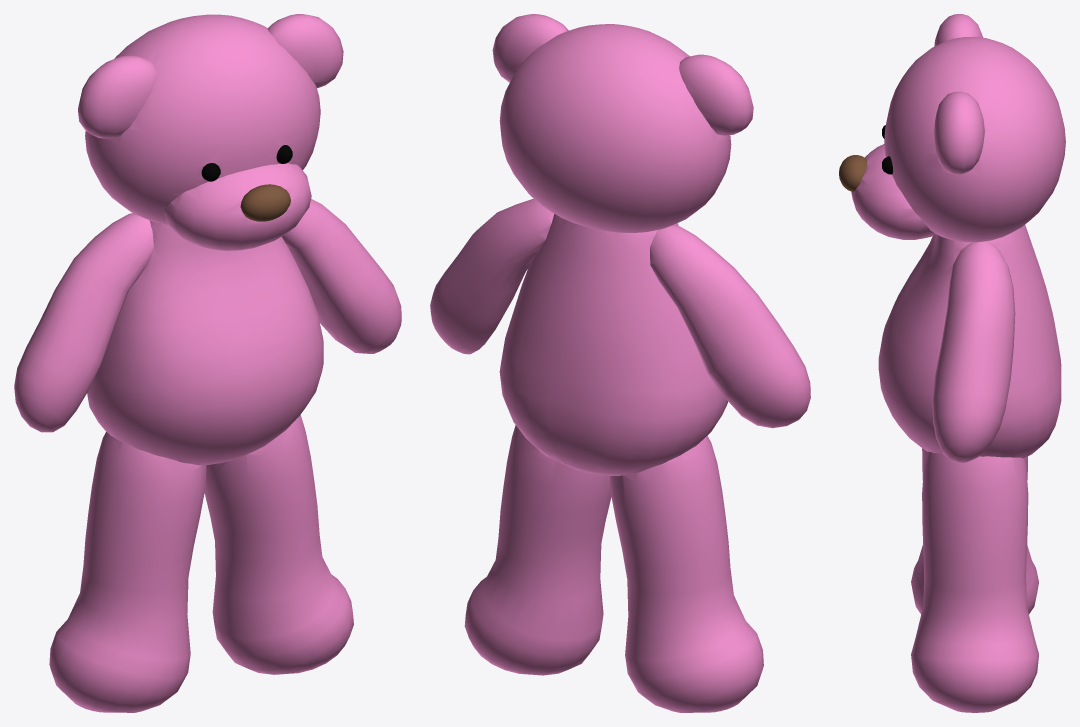
The model's file is Bear.fbx.
3 renders of one model, left to right at view 1: azimuth 30°, elevation 25°; view 2: azimuth 150°, elevation 25°; view 3: azimuth 270°, elevation 25°, orthographic. The views are drawn at different scales.
Parts seen in each view (by area): view 1: Bear; view 2: Bear; view 3: Bear.
Part boxes in pixels (bbox=[...]): Bear: bbox=[14, 14, 401, 712]; Bear: bbox=[430, 14, 810, 712]; Bear: bbox=[839, 14, 1065, 712].
Size of the model in its own units: 3.78 by 6.3 by 2.1.
